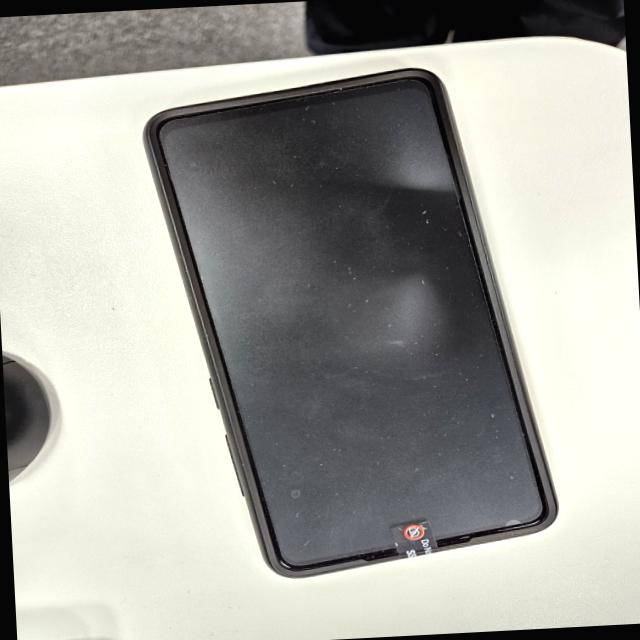phone: (137, 62, 562, 587)
sticker: (390, 520, 438, 556)
